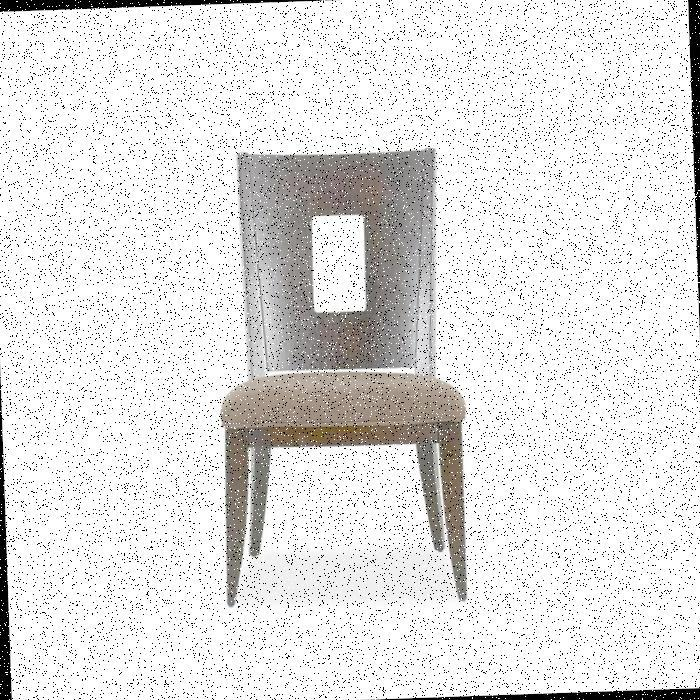Silla: (194, 146, 479, 613)
